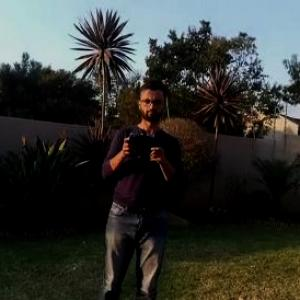follow: (91, 71, 187, 299)
